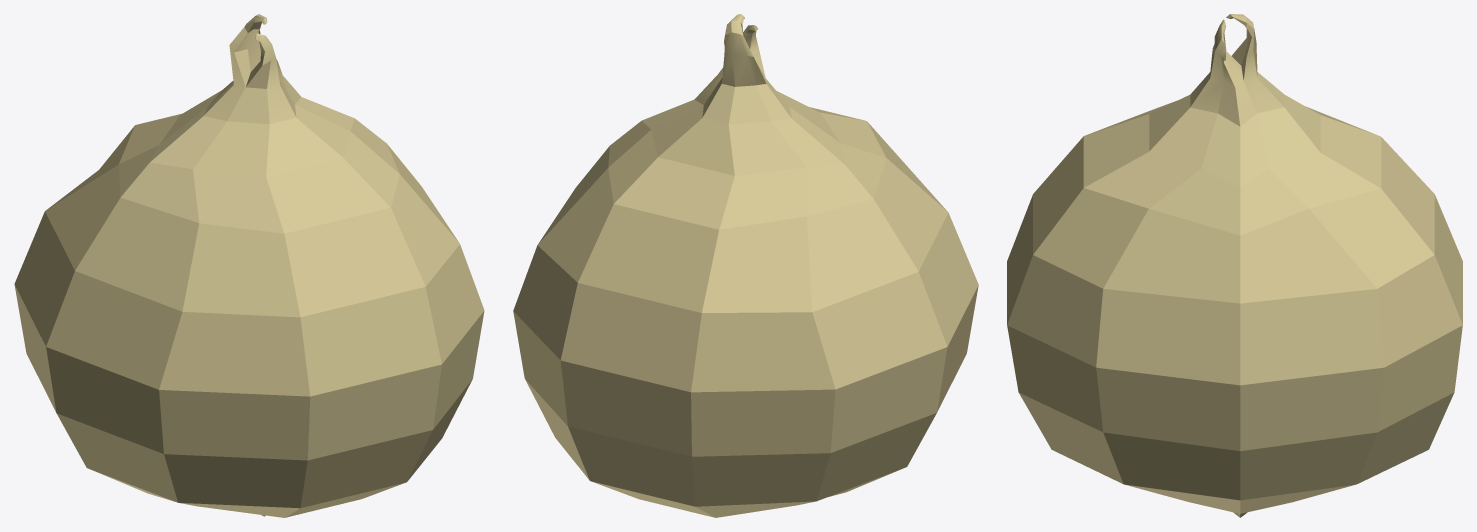
Rendered from ui placeholder.fbx.
3 views of the same model, side by side, from view 1: azimuth 30°, elevation 25°; view 2: azimuth 150°, elevation 25°; view 3: azimuth 270°, elevation 25° (orthographic).
Parts seen in each view (by area): view 1: pSphere1; view 2: pSphere1; view 3: pSphere1.
Boxes of the visible parts, <box> form: pSphere1: <box>14,14,484,517</box>; pSphere1: <box>513,14,978,517</box>; pSphere1: <box>1007,14,1462,517</box>.
Bounding box in the file's own units: 0.8501 × 1.02 × 0.8362.
